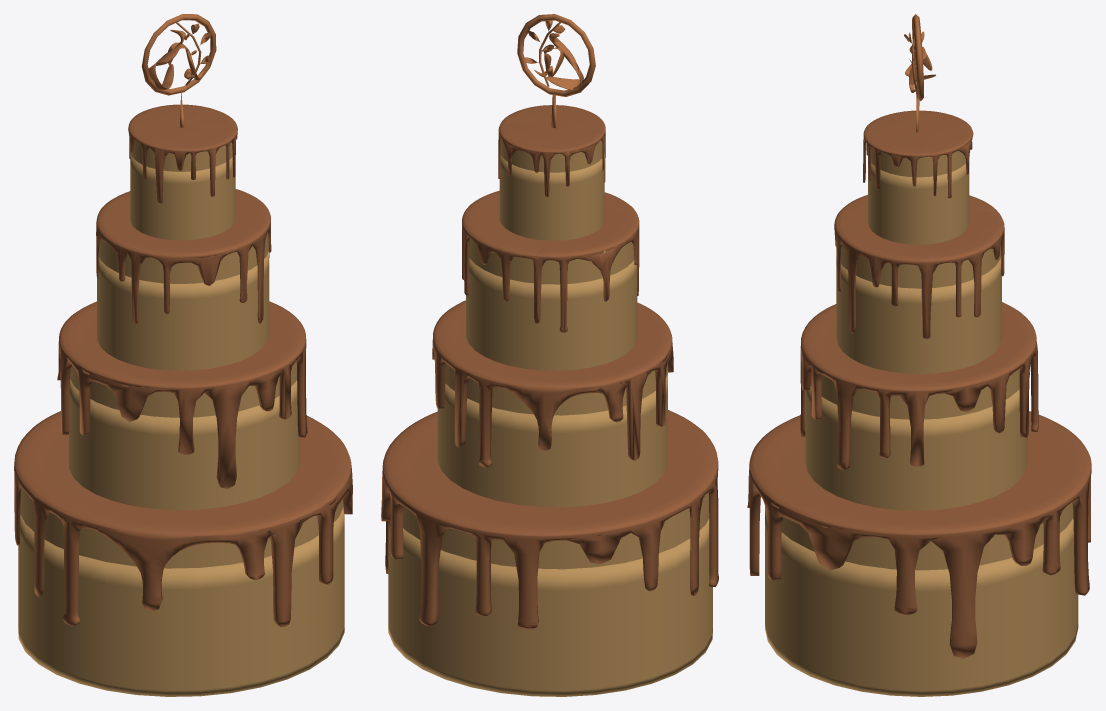
Rendered from 4-tier-caramel-ganache-ring.glb.
The picture shows the model from 3 angles, left to right: view 1: azimuth 30°, elevation 25°; view 2: azimuth 150°, elevation 25°; view 3: azimuth 270°, elevation 25°; orthographic projection.
Parts seen in each view (by area): view 1: 3.001, tHE ICING.008, 3, 2, tHE ICING.007, tHE ICING.006, 1, tHE ICING.009, Cylinder.006; view 2: 3.001, tHE ICING.008, 3, 2, tHE ICING.007, tHE ICING.006, 1, tHE ICING.009, Cylinder.006; view 3: 3.001, tHE ICING.008, 3, 2, tHE ICING.007, tHE ICING.006, 1, tHE ICING.009, Cylinder.006.
Boxes of the visible parts, x1,y1,x2,y2 form: 3.001: [18, 488, 344, 696]; tHE ICING.008: [14, 411, 352, 626]; 3: [68, 361, 300, 510]; 2: [97, 226, 269, 370]; tHE ICING.007: [57, 301, 307, 489]; tHE ICING.006: [96, 189, 271, 323]; 1: [130, 141, 235, 240]; tHE ICING.009: [128, 104, 237, 203]; Cylinder.006: [141, 14, 216, 127]; 3.001: [388, 493, 712, 696]; tHE ICING.008: [381, 410, 718, 628]; 3: [437, 364, 667, 507]; 2: [466, 238, 637, 370]; tHE ICING.007: [432, 300, 673, 467]; tHE ICING.006: [462, 190, 639, 332]; 1: [499, 136, 604, 240]; tHE ICING.009: [498, 105, 605, 196]; Cylinder.006: [517, 14, 595, 128]; 3.001: [765, 502, 1078, 696]; tHE ICING.008: [747, 411, 1091, 658]; 3: [805, 369, 1027, 510]; 2: [836, 238, 1001, 374]; tHE ICING.007: [800, 302, 1038, 469]; tHE ICING.006: [834, 195, 1004, 338]; 1: [868, 147, 969, 244]; tHE ICING.009: [863, 110, 973, 198]; Cylinder.006: [904, 14, 935, 132].
Bounding box in the file's own units: 4.52 × 9.13 × 4.69.
